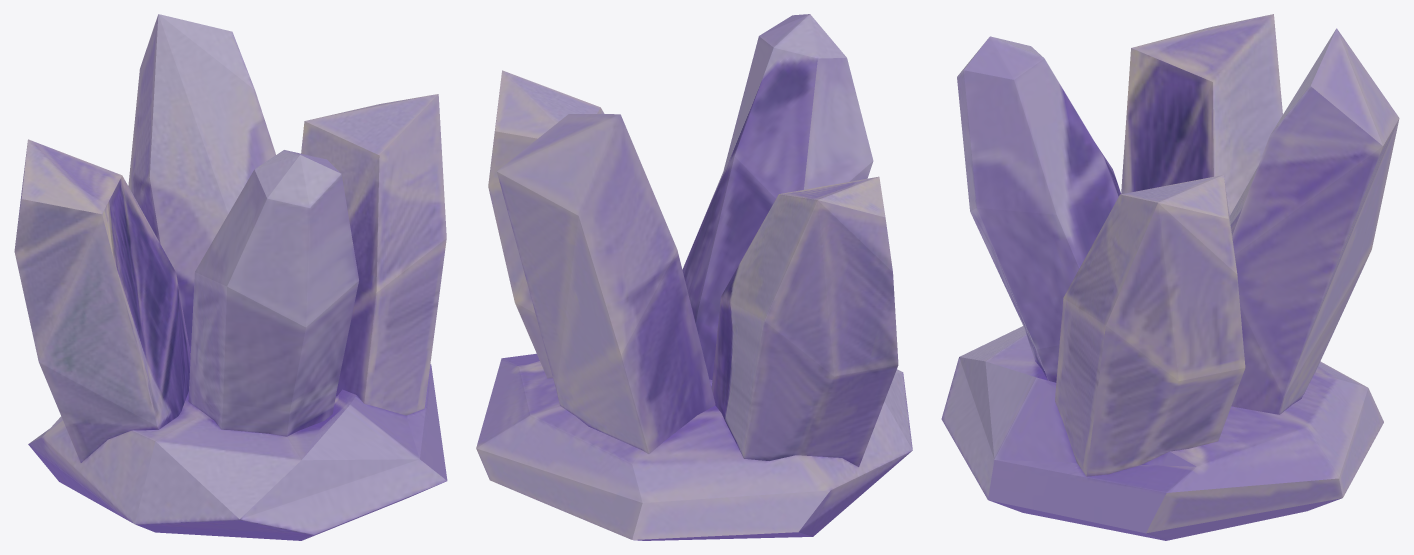
File: crystal_low_poly.glb
3 renders of one model, left to right at view 1: azimuth 30°, elevation 25°; view 2: azimuth 150°, elevation 25°; view 3: azimuth 270°, elevation 25°, orthographic. The views are drawn at different scales.
Parts seen in each view (by area): view 1: pCube239; view 2: pCube239; view 3: pCube239.
Part boxes in pixels (box(x1,y1,x2,y2)): pCube239: box(14, 14, 447, 540); pCube239: box(476, 14, 912, 540); pCube239: box(941, 14, 1399, 540).
Size of the model in its own units: 0.9521 by 0.9647 by 0.8822.
Materials: 1 (1 with a texture image).
